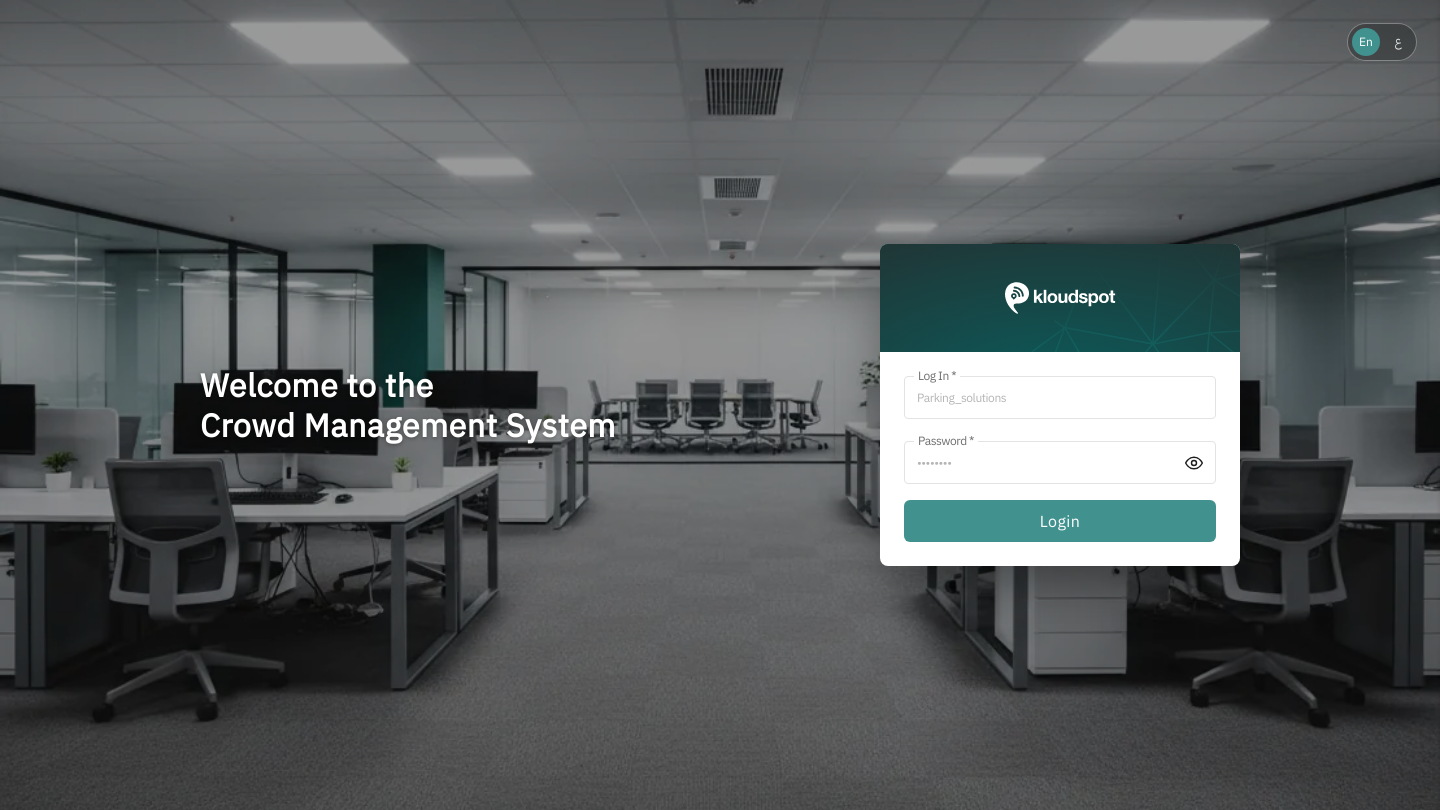
Test: login screen › reveals and masks the password with the eye toggle
Step 1. Type "secret" into the password field labelled "Password *" → (1060, 462), box [904,441,1216,484]
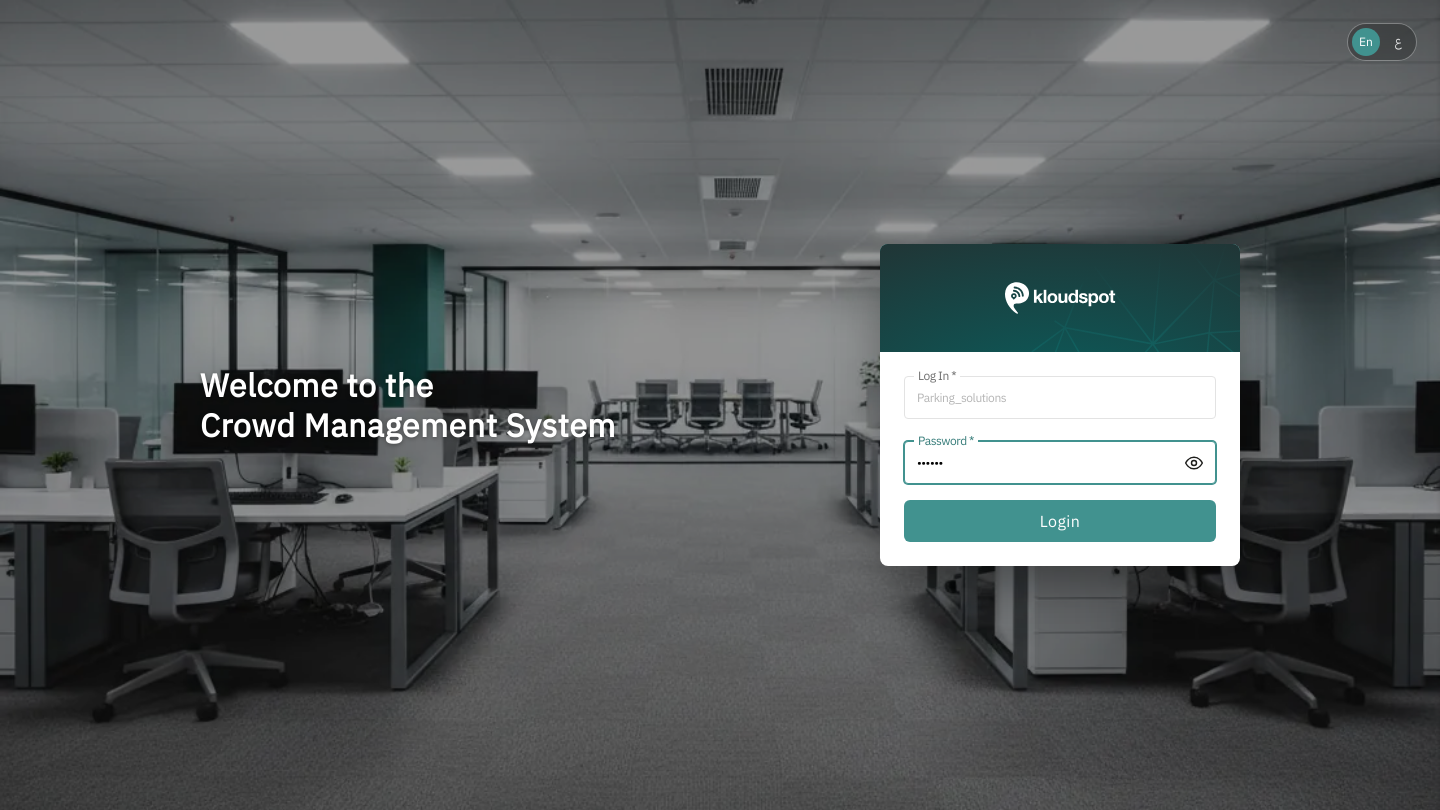
Step 2. Click the button named "Show password" → (1194, 462), box [1172,441,1216,484]
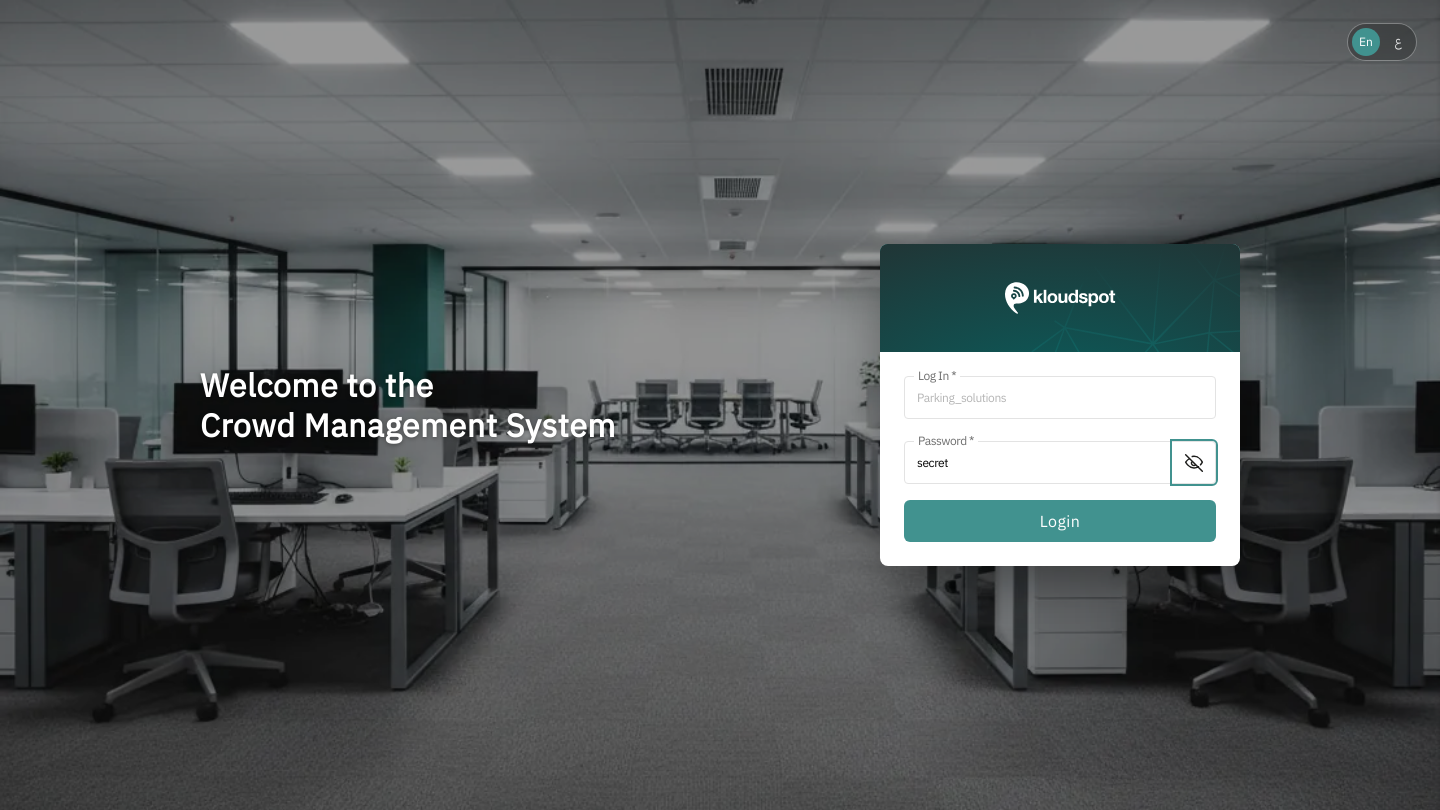
Check: the field labelled "Password *" shows its text, box [904,441,1216,484]
Step 3. Click the button named "Hide password" → (1194, 462), box [1172,441,1216,484]
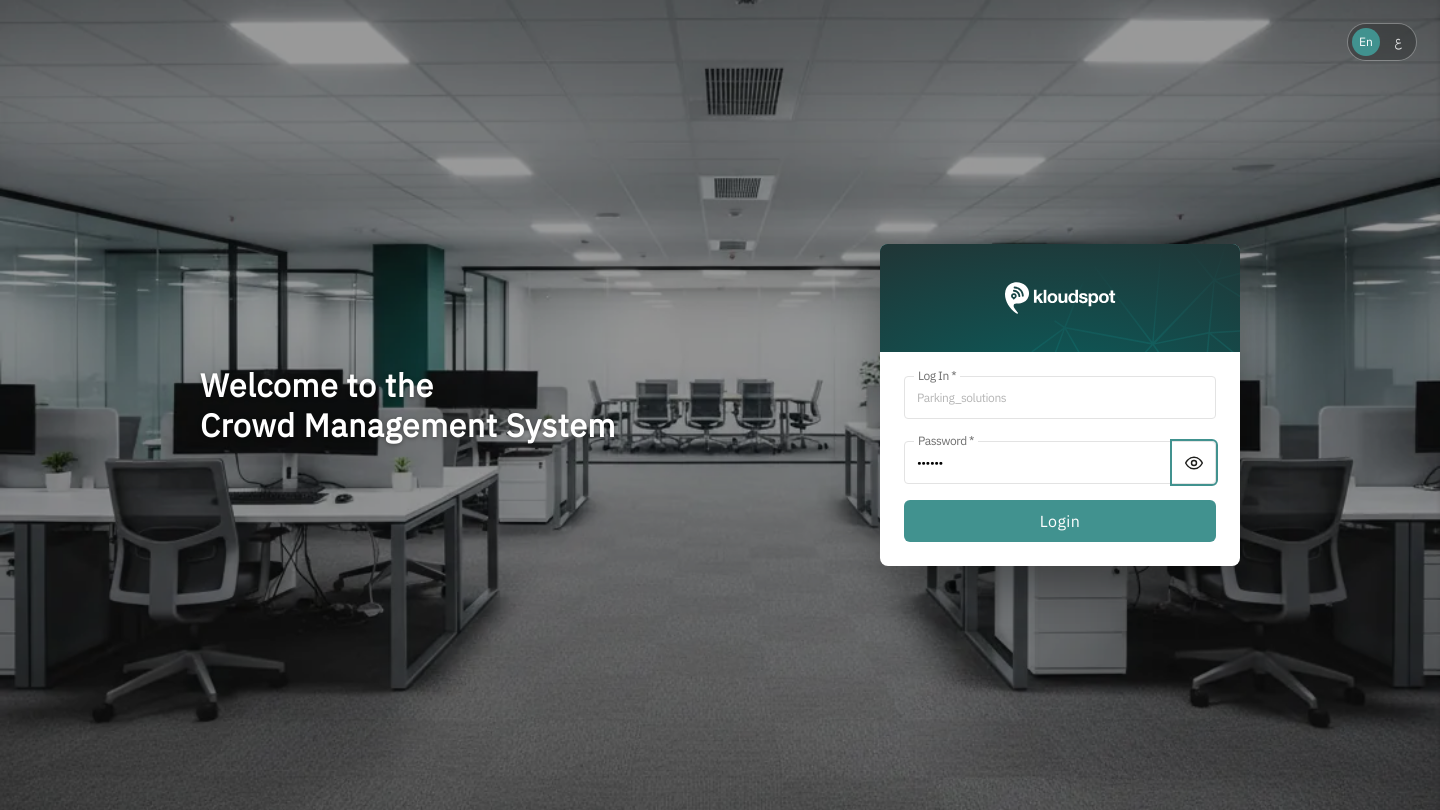
Check: the password field labelled "Password *" hides its text, box [904,441,1216,484]
